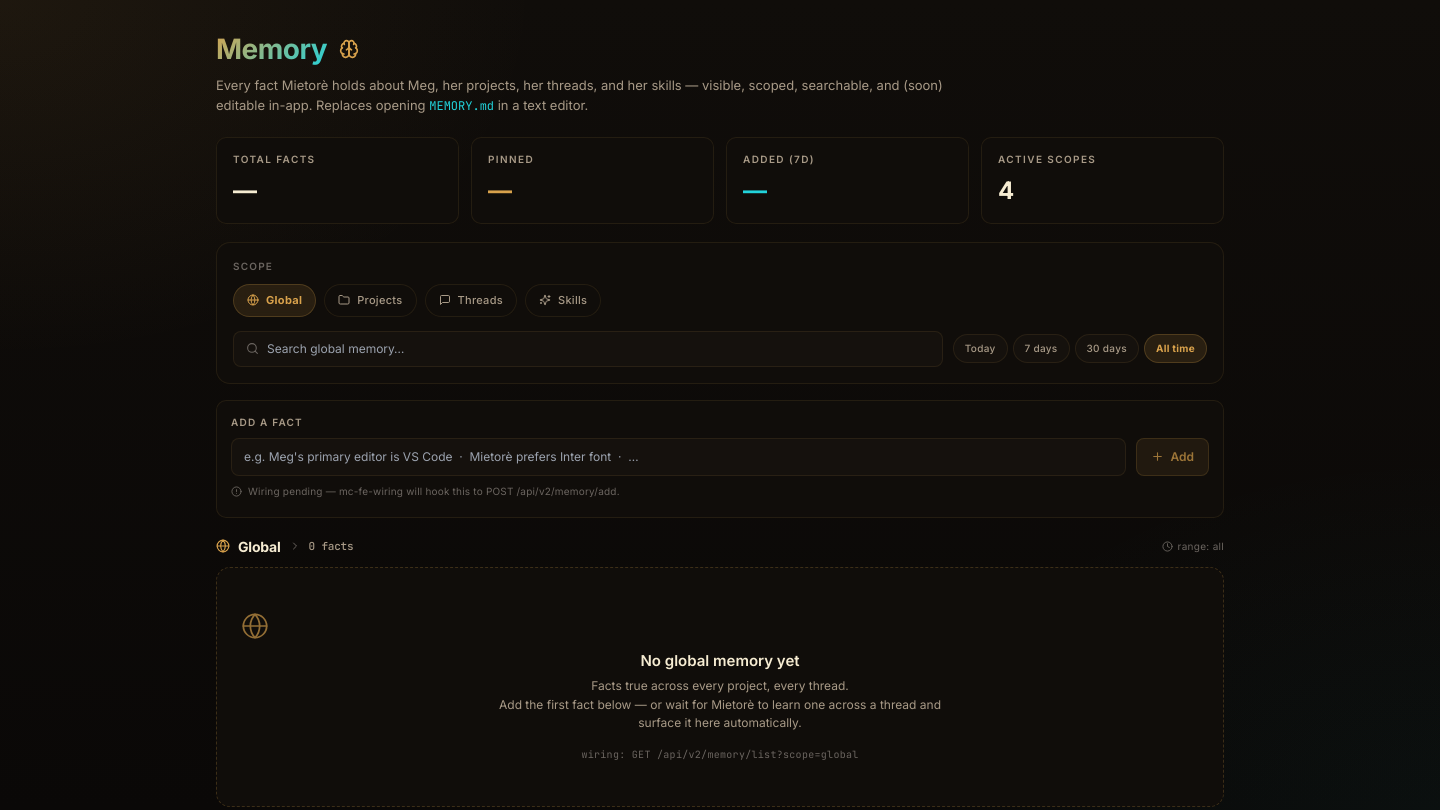
it: <MemoryPage> — Phase 6.D shell › switching scope updates the empty state copy
What coordinates should you click on to do the following:
click the button with test id "memory-scope-skill"
I would click on:
 (563, 300)
Its box is [525,284,601,316].
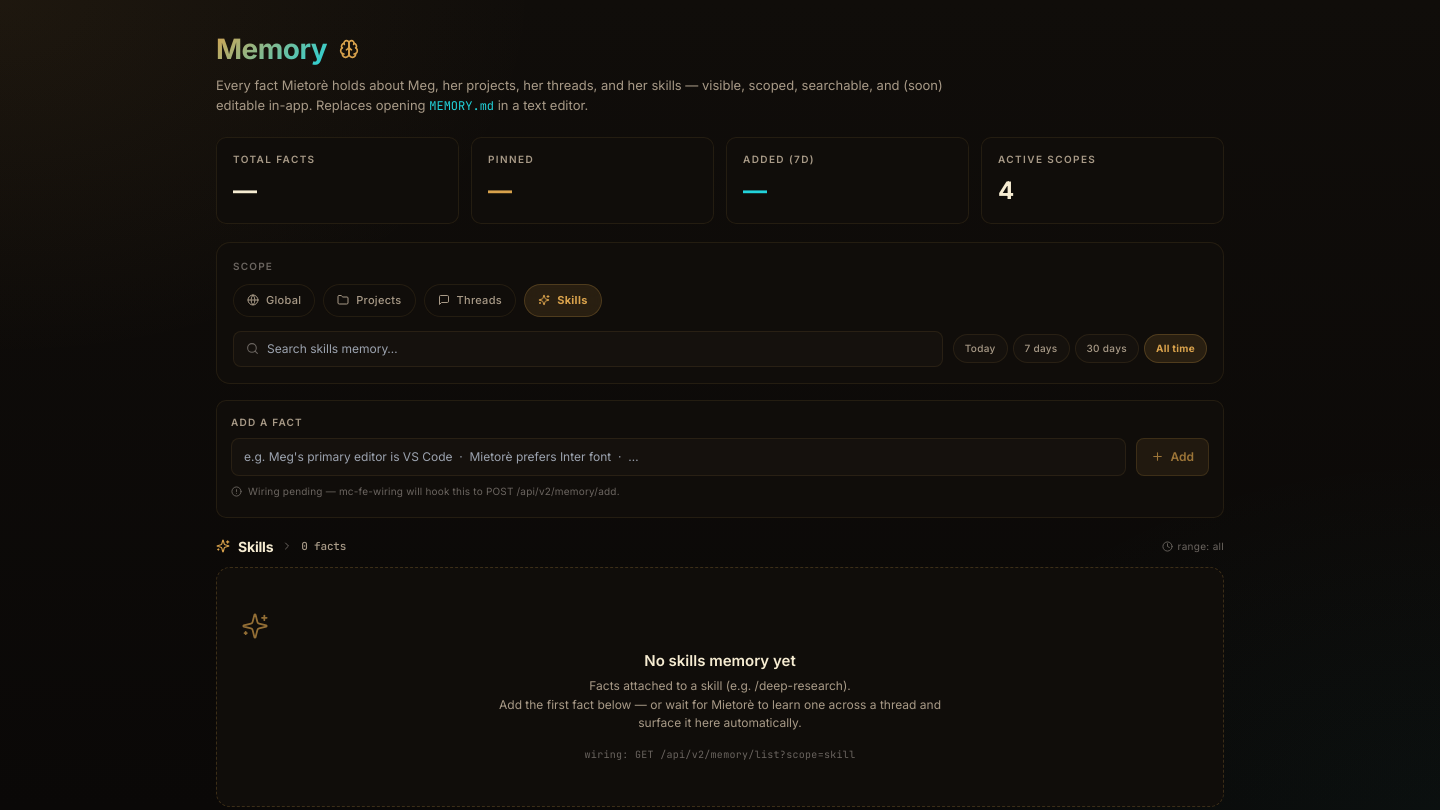
Now the element with test id "memory-empty-state" shows "skill", box [824,748,856,761]
